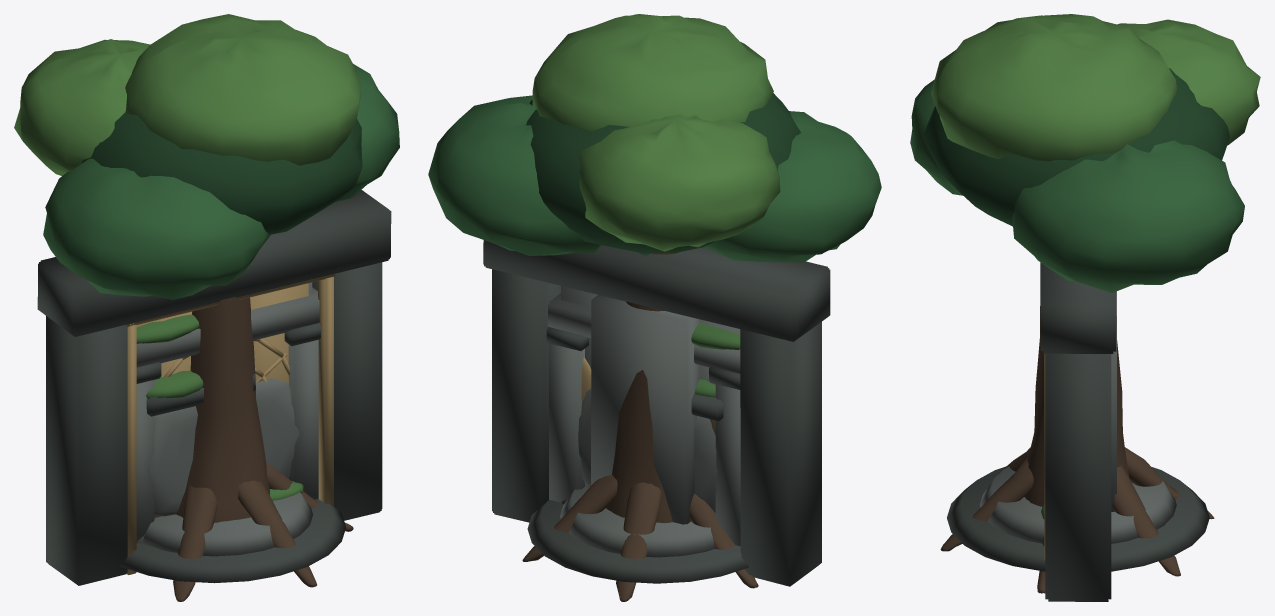
File: environment.glb
3 views of the same model, side by side, from view 1: azimuth 30°, elevation 25°; view 2: azimuth 150°, elevation 25°; view 3: azimuth 270°, elevation 25° (orthographic).
Parts seen in each view (by area): view 1: AncientTree, SealFrame, RuinArch, AtlasShrine, RuinWallOrange, SealDoorR, SealDoorL; view 2: AncientTree, SealFrame, AtlasShrine, RuinArch, RuinWallOrange, SealDoorR; view 3: AncientTree, SealFrame, AtlasShrine.
Boxes of the visible parts, x1,y1,x2,y2 form: AncientTree: (14,14,399,601); SealFrame: (37,190,391,585); RuinArch: (136,287,320,542); AtlasShrine: (120,492,345,583); RuinWallOrange: (137,370,303,543); SealDoorR: (250,282,312,478); SealDoorL: (136,311,191,517); AncientTree: (428,14,881,601); SealFrame: (483,240,830,586); AtlasShrine: (527,295,748,583); RuinArch: (546,293,740,546); RuinWallOrange: (561,379,723,512); SealDoorR: (561,286,597,487); AncientTree: (910,14,1260,593); SealFrame: (1040,262,1116,601); AtlasShrine: (947,291,1209,571).
Size of the model in its own units: 9.32 by 12.17 by 7.46.
